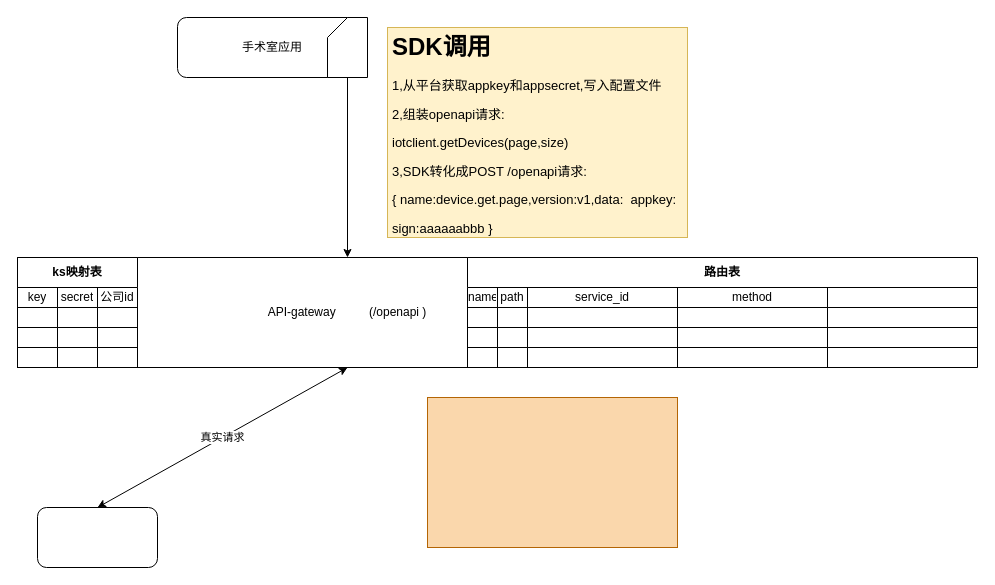
This 995x585 diagram has some shape labels left out. The shapes that lost their labels are listed below. From the top down, each one's centre as x and y in pixels, then its label:
(347,47): sdk
(552,472): gateway解析 1,根据key,secret映射表验证sign正确 2,根据路由表拼接正确的url 3,请求真实服务 4,返回
(97,537): thing-device
